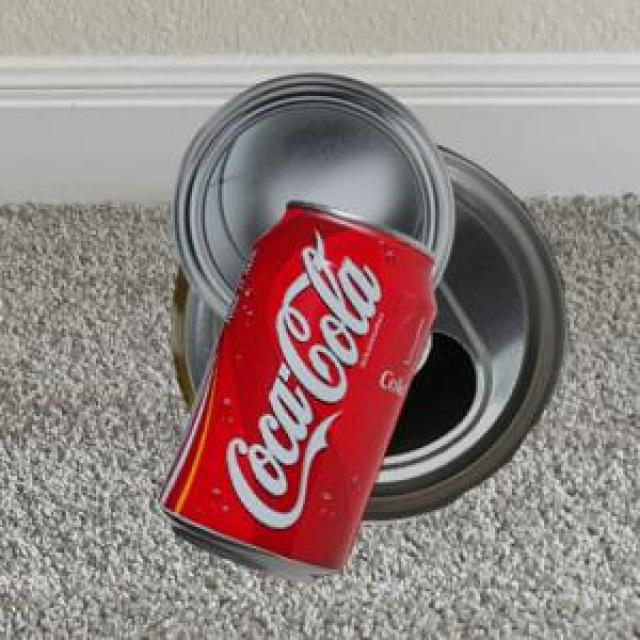logam: (170, 142, 566, 522), (157, 197, 434, 579), (170, 71, 451, 317)
